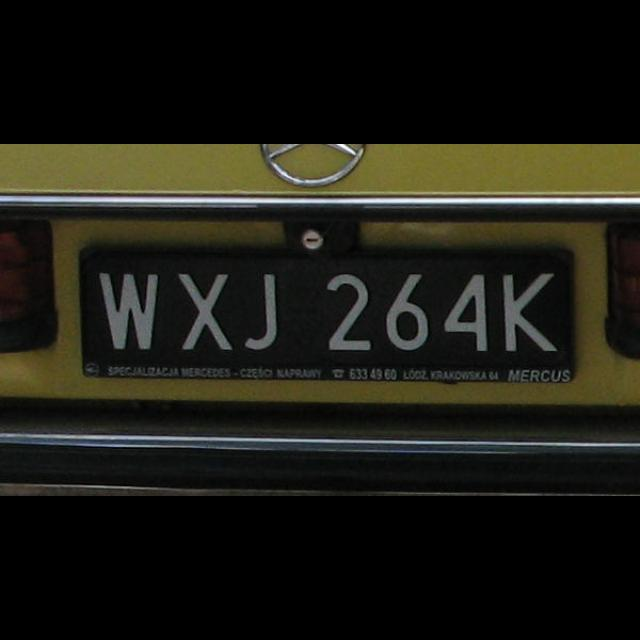pl_license_plate: (80, 253, 570, 367)
